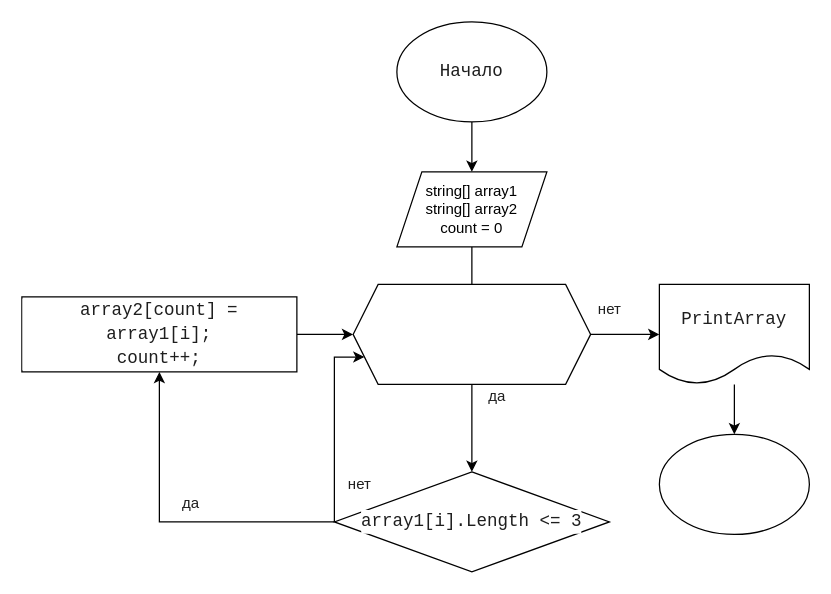
Image size: 831x594. Some labels were removed from this diagram. The shapes that lost their labels are listed below. From the top down, each one's box as (x1, y1, x2, y2) in pixels, then its label:
(352, 283, 591, 384): int i = 0; i < array1.Length; i++
(658, 433, 809, 534): Конец
